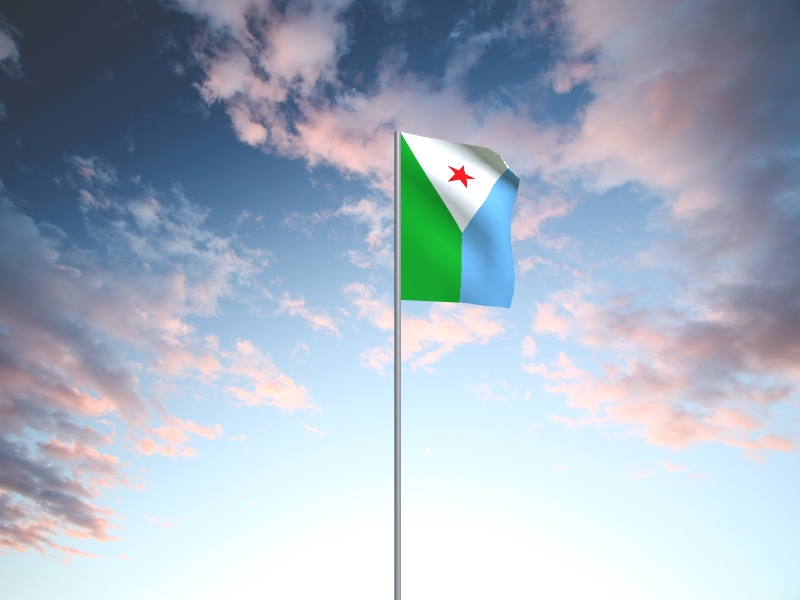dj: (402, 133, 522, 310)
